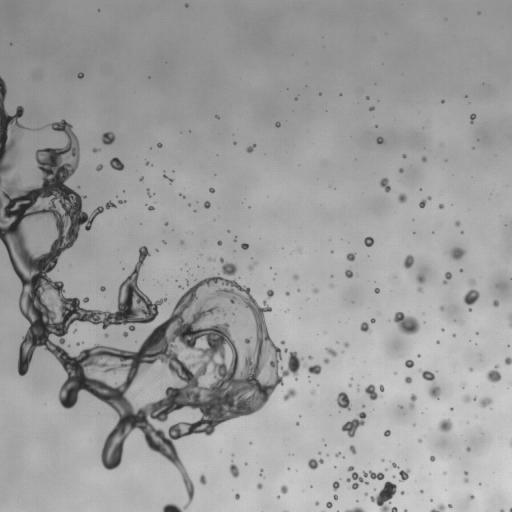droplet: (346, 466, 384, 489), (370, 481, 397, 511), (394, 312, 419, 334), (219, 258, 237, 276), (486, 365, 501, 382), (336, 392, 350, 410), (365, 384, 377, 400), (110, 157, 124, 170), (438, 419, 452, 432), (451, 247, 465, 259), (308, 458, 323, 469), (102, 132, 115, 144), (283, 388, 296, 400), (399, 468, 410, 482), (229, 462, 239, 477), (403, 255, 414, 268), (380, 178, 390, 192), (479, 397, 492, 407), (364, 237, 373, 246), (360, 322, 369, 331), (326, 348, 336, 356), (246, 144, 255, 152), (398, 193, 406, 202), (346, 253, 355, 261), (345, 269, 353, 278), (416, 275, 425, 283), (405, 359, 414, 367), (349, 445, 356, 454), (199, 475, 206, 484), (332, 481, 339, 490), (470, 113, 476, 123), (504, 357, 511, 365), (280, 485, 287, 493), (267, 289, 273, 298), (96, 164, 103, 171), (241, 242, 248, 249), (405, 376, 412, 383), (376, 137, 383, 143), (204, 201, 210, 208), (493, 300, 499, 307), (384, 429, 390, 436), (77, 72, 83, 78), (326, 502, 332, 508), (248, 264, 255, 269), (391, 463, 398, 468), (421, 156, 426, 162), (82, 297, 88, 302), (343, 342, 349, 347), (468, 494, 474, 499), (275, 122, 280, 127), (209, 188, 214, 193), (455, 221, 460, 226), (293, 274, 298, 279), (100, 286, 105, 291), (418, 287, 423, 292), (312, 288, 317, 293), (374, 288, 379, 293), (370, 318, 375, 323), (324, 358, 329, 363), (379, 385, 384, 390), (430, 456, 435, 461), (257, 483, 262, 488), (92, 148, 98, 152), (148, 206, 154, 210), (208, 257, 214, 261), (242, 322, 248, 326), (235, 493, 239, 499), (118, 200, 125, 203), (369, 106, 374, 110), (157, 143, 162, 147), (439, 204, 443, 209), (123, 332, 127, 337), (335, 452, 340, 456), (333, 494, 337, 499), (402, 154, 406, 158), (145, 161, 149, 165), (399, 168, 403, 172), (139, 177, 143, 181), (217, 241, 221, 245), (285, 291, 289, 295), (104, 333, 108, 337), (281, 340, 285, 344), (466, 447, 470, 451), (464, 471, 468, 475), (464, 478, 468, 482), (315, 501, 319, 505), (215, 115, 219, 118), (440, 306, 443, 310), (308, 356, 312, 359), (400, 491, 404, 494), (179, 285, 182, 288), (469, 368, 472, 371), (418, 439, 421, 442), (186, 280, 188, 284), (311, 391, 315, 393), (500, 509, 504, 511), (185, 4, 188, 6), (441, 100, 444, 102), (233, 142, 236, 144), (165, 222, 167, 225), (460, 231, 463, 233), (180, 241, 183, 243), (459, 269, 462, 271), (330, 284, 332, 287), (74, 329, 76, 332), (452, 334, 455, 336), (450, 408, 453, 410), (296, 422, 299, 424), (420, 490, 423, 492), (449, 504, 451, 507), (234, 238, 236, 240), (163, 241, 165, 243), (297, 289, 299, 291), (77, 343, 79, 345), (348, 384, 350, 386), (134, 392, 136, 394), (413, 423, 415, 425), (260, 471, 262, 473), (365, 493, 367, 495), (277, 496, 279, 498)
ligament: (0, 124, 321, 511), (0, 77, 41, 185), (341, 412, 366, 437), (419, 369, 440, 398), (463, 279, 479, 310), (419, 196, 431, 207), (430, 503, 445, 511), (409, 394, 416, 409), (443, 272, 451, 284), (463, 395, 476, 402), (163, 174, 173, 183), (345, 507, 364, 511), (508, 314, 511, 327), (146, 189, 151, 196), (179, 193, 184, 198), (509, 439, 511, 447), (509, 507, 511, 511), (403, 510, 407, 511), (284, 510, 287, 511)
